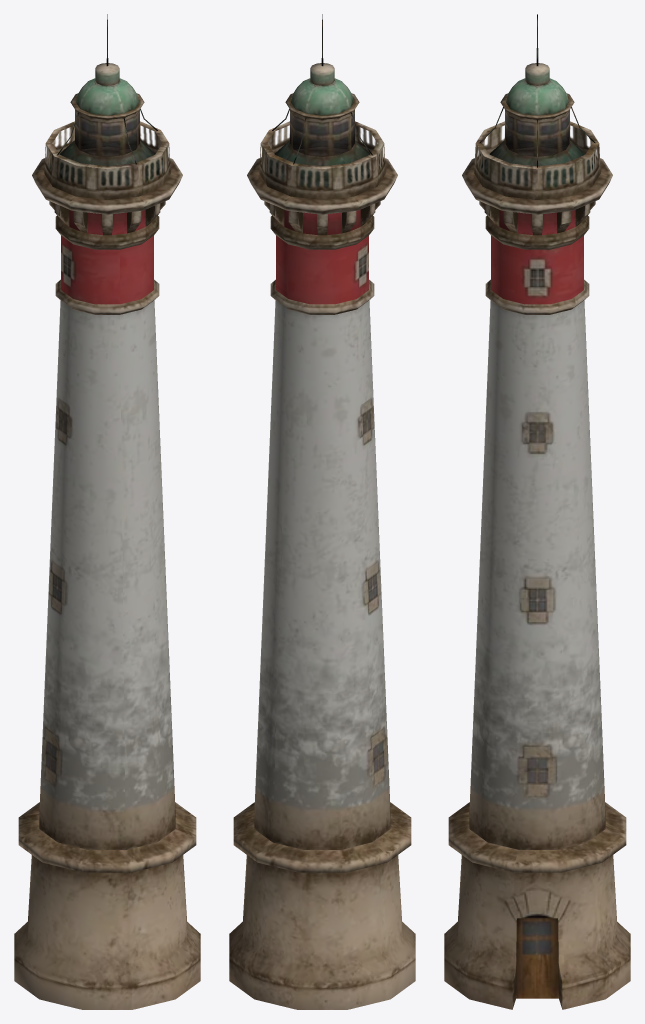
The model's file is faro.glb.
3 renders of one model, left to right at view 1: azimuth 30°, elevation 25°; view 2: azimuth 150°, elevation 25°; view 3: azimuth 270°, elevation 25°, orthographic.
Parts seen in each view (by area): view 1: LowPoly; view 2: LowPoly; view 3: LowPoly.
Part boxes in pixels (x1,y1,x2,y2): LowPoly: (14, 14, 200, 1009); LowPoly: (229, 14, 415, 1009); LowPoly: (444, 14, 630, 1009).
Size of the model in its own units: 0.2897 by 1.64 by 0.2897.
1 material, 1 textured.
